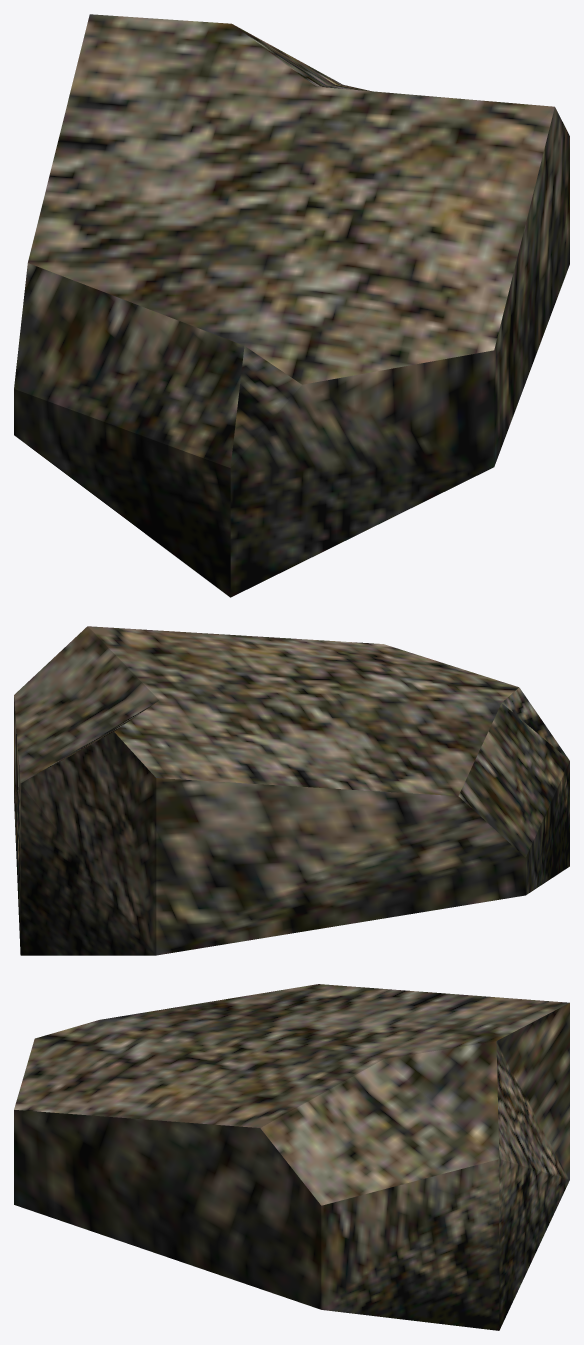
3 views of the same model, one above another, from view 1: azimuth 30°, elevation 25°; view 2: azimuth 150°, elevation 25°; view 3: azimuth 270°, elevation 25° (orthographic). The views are drawn at different scales.
Visible parts, largest first — view 1: rock1; view 2: rock1; view 3: rock1.
Boxes of the visible parts, bbox=[...] form: rock1: bbox=[14, 14, 569, 597]; rock1: bbox=[14, 626, 569, 955]; rock1: bbox=[14, 984, 569, 1330].
Bounding box in the file's own units: 2.81 × 1.37 × 2.81.
1 material, 1 textured.
